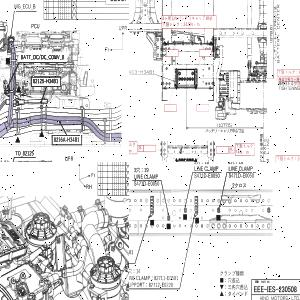PartNumber: (53, 136, 80, 144), (33, 78, 58, 85), (194, 173, 220, 179), (148, 282, 174, 288), (134, 181, 159, 187), (229, 172, 254, 178), (154, 275, 178, 281), (129, 69, 154, 74), (278, 77, 300, 81)
